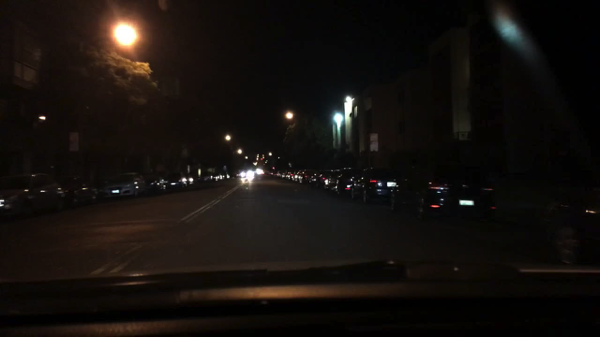car: (389, 161, 506, 227), (540, 184, 599, 266), (0, 172, 66, 220), (349, 165, 410, 204), (54, 173, 98, 206), (100, 171, 149, 199), (334, 168, 364, 201), (143, 175, 167, 193), (308, 170, 333, 186), (323, 170, 342, 191), (162, 174, 185, 190), (299, 170, 317, 184), (181, 175, 194, 186), (294, 170, 303, 184), (201, 172, 213, 182), (240, 171, 252, 179), (284, 172, 292, 181), (223, 171, 230, 180), (291, 172, 297, 182), (217, 172, 223, 182), (211, 172, 217, 182), (231, 172, 241, 178), (279, 171, 286, 179), (272, 171, 278, 178), (277, 171, 281, 178), (270, 171, 274, 176)
traffic sign: (70, 132, 80, 151), (369, 133, 379, 152)
